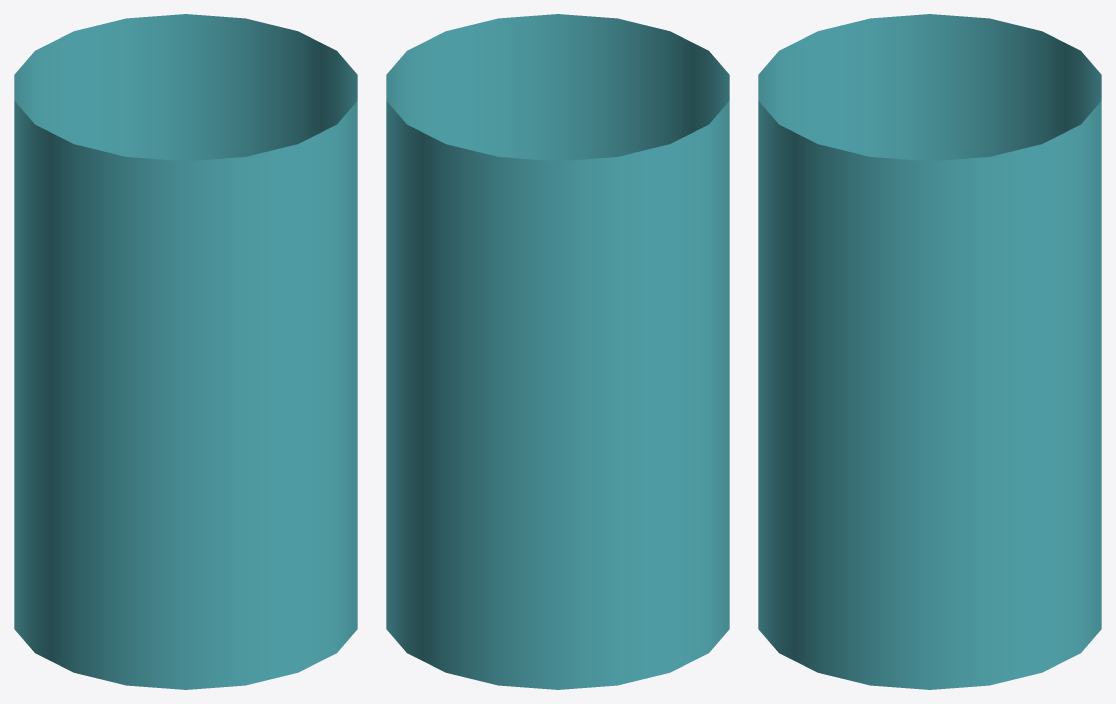
Rendered from Engine_Coolant_Temperature.gltf.
The picture shows the model from 3 angles, left to right: view 1: azimuth 30°, elevation 25°; view 2: azimuth 150°, elevation 25°; view 3: azimuth 270°, elevation 25°; orthographic projection.
Visible parts, largest first — view 1: Engine_Coolant_Temperature; view 2: Engine_Coolant_Temperature; view 3: Engine_Coolant_Temperature.
Part boxes in pixels (x1,y1,x2,y2): Engine_Coolant_Temperature: (14,14,357,689); Engine_Coolant_Temperature: (386,14,729,689); Engine_Coolant_Temperature: (758,14,1101,689).
Bounding box in the file's own units: 0.048 × 0.0802 × 0.0472.
